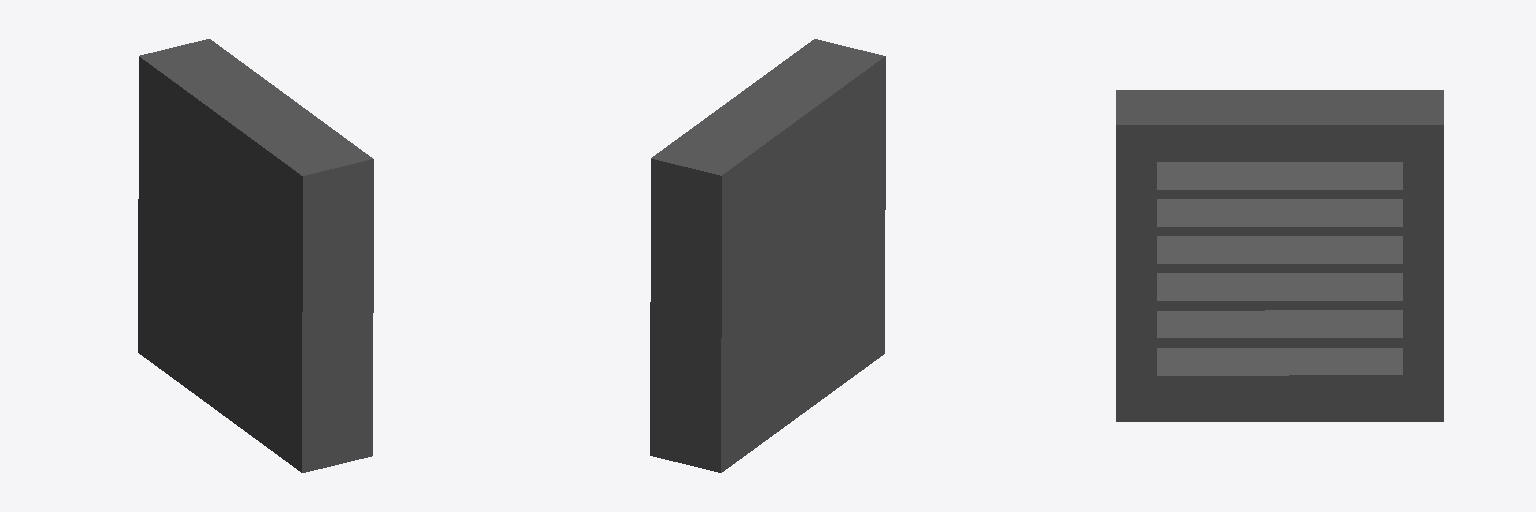
Rendered from vent.obj.
3 renders of one model, left to right at view 1: azimuth 30°, elevation 25°; view 2: azimuth 150°, elevation 25°; view 3: azimuth 270°, elevation 25°, orthographic.
Parts seen in each view (by area): view 1: vent; view 2: vent; view 3: vent.
Boxes of the visible parts, x1=… form: vent: x1=138, y1=39, x2=373, y2=472; vent: x1=650, y1=39, x2=885, y2=472; vent: x1=1116, y1=90, x2=1443, y2=421.
Bounding box in the file's own units: 0.5 × 2 × 2.